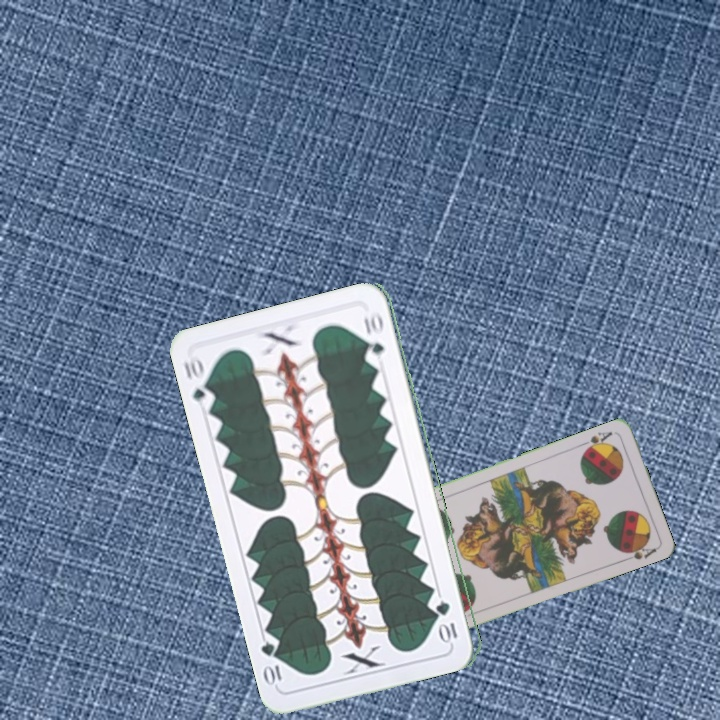G10: (180, 351, 217, 411), (435, 596, 460, 645)
SA: (578, 427, 615, 454)
